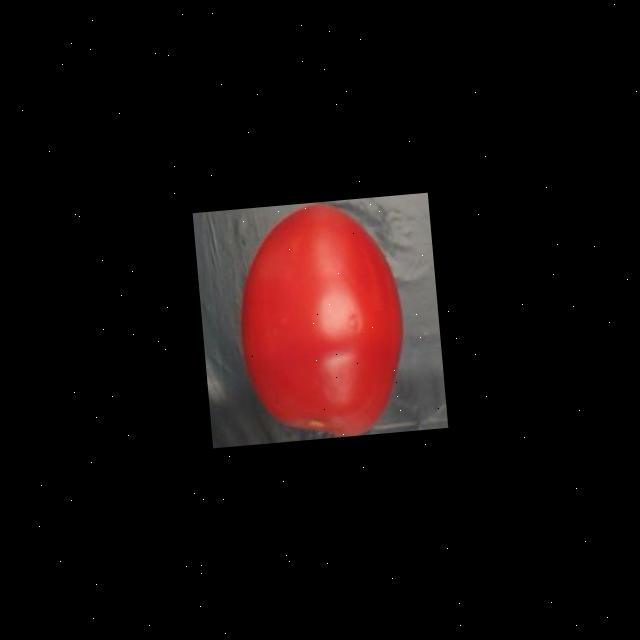tomato: (224, 195, 415, 444)
